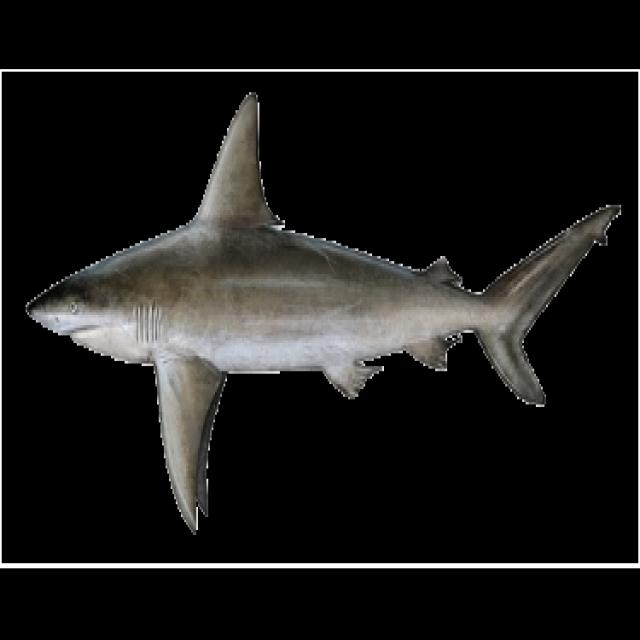gaviota: (26, 92, 620, 530)
